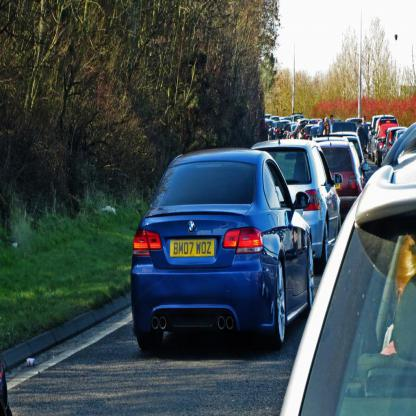license plate: (168, 237, 216, 256)
